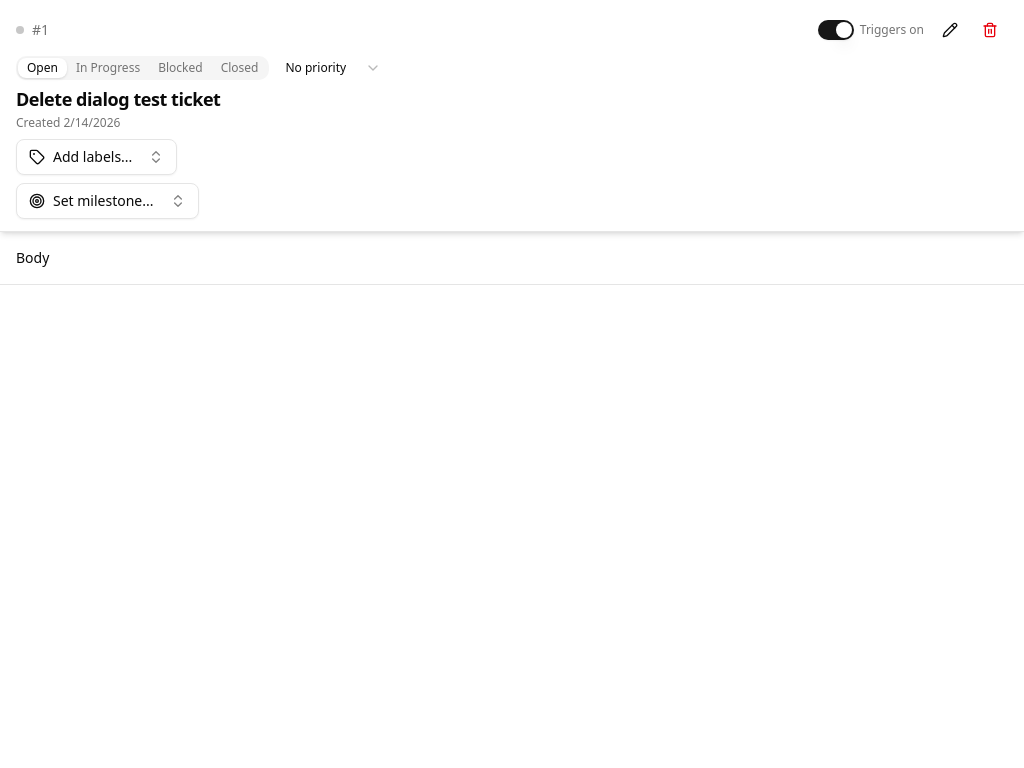
Test: TicketDetail delete dialog › opens a warning dialog instead of deleting immediately
Click the button named "Delete ticket" at (990, 30), box [972, 12, 1008, 48]
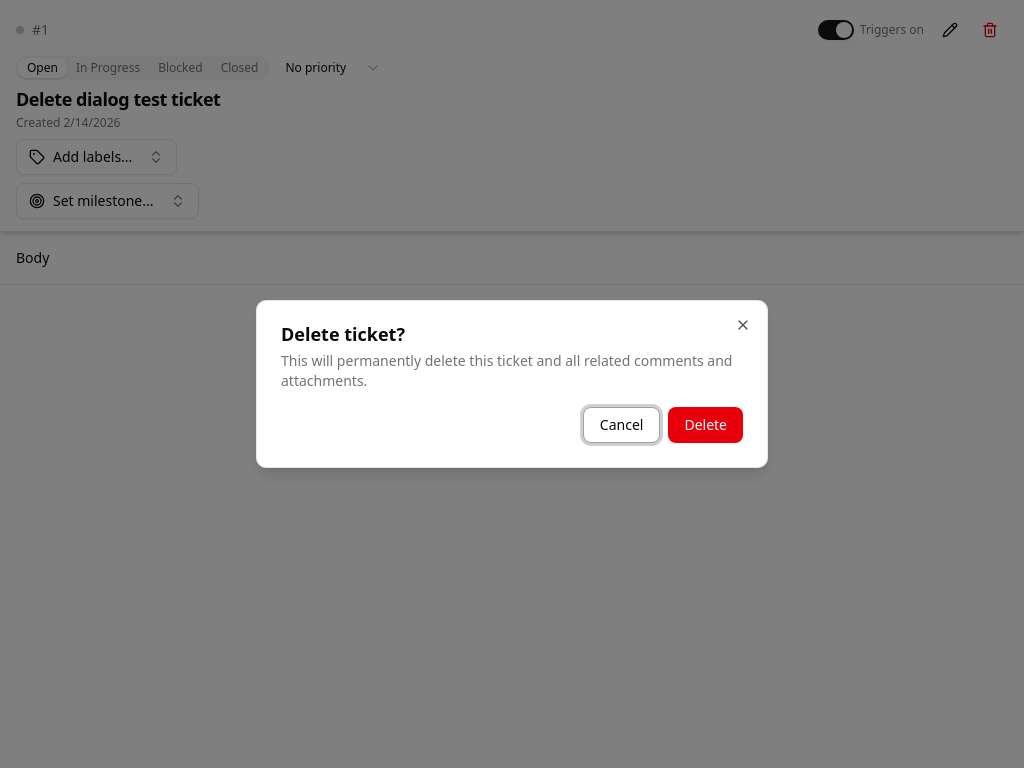
Now the heading "Delete ticket?" is shown, box [281, 322, 405, 346]
